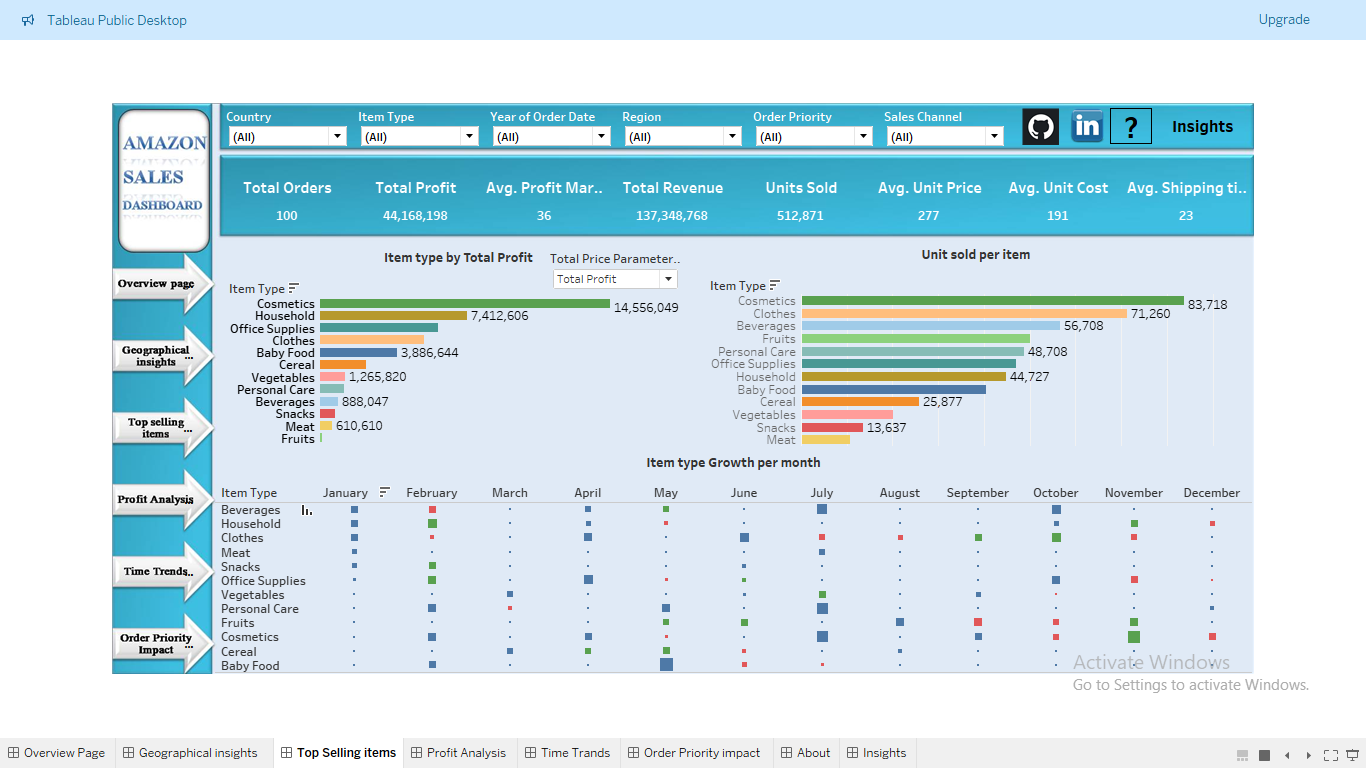

What the dashboard file says about the page in this screenshot:
{"tool":"tableau","page":{"name":"Top Selling items","canvas":[1150,590],"ordinal":7},"visuals":[{"type":"image","param":"Image/Overview page 1.jpg","box":[0,0,1150,590]},{"type":"filter","title":"KPI","param":"[federated.0k0h3zn0j6ocbn1h67y0m1jnyyte].[none:Country:nk]","box":[114,10,132,47]},{"type":"filter","title":"KPI","param":"[federated.0k0h3zn0j6ocbn1h67y0m1jnyyte].[none:Item Type:nk]","box":[246,10,132,47]},{"type":"filter","title":"KPI","param":"[federated.0k0h3zn0j6ocbn1h67y0m1jnyyte].[yr:Order Date:ok]","box":[378,10,132,47]},{"type":"filter","title":"KPI","param":"[federated.0k0h3zn0j6ocbn1h67y0m1jnyyte].[none:Region:nk]","box":[510,10,131,47]},{"type":"filter","title":"KPI","param":"[federated.0k0h3zn0j6ocbn1h67y0m1jnyyte].[none:Order Priority:nk]","box":[641,10,131,47]},{"type":"filter","title":"KPI","param":"[federated.0k0h3zn0j6ocbn1h67y0m1jnyyte].[none:Sales Channel:nk]","box":[772,10,131,47]},{"type":"image","param":"Image/linkedin-logo-png-1826.png","box":[955,11,48,40]},{"type":"dashboard-object","box":[1054,13,83,38]},{"type":"image","param":"Image/github-6980894_1920.png","box":[914,14,37,38]},{"type":"dashboard-object","box":[1002,14,42,36]},{"type":"worksheet","title":"KPI","mark":"Automatic","box":[115,64,1028,75]},{"type":"worksheet","title":"Unit sold per item","mark":"Automatic","rows":["Item Type"],"cols":["Units Sold"],"box":[593,147,550,205]},{"type":"worksheet","title":"Item type by","mark":"Automatic","rows":["Item Type"],"cols":["Calculation_864128192245633026"],"box":[112,150,477,200]},{"type":"parameter","param":"[Parameters].[Parameter 2]","box":[442,156,131,41]},{"type":"dashboard-object","box":[7,177,83,25]},{"type":"dashboard-object","box":[7,248,83,25]},{"type":"dashboard-object","box":[6,321,83,25]},{"type":"worksheet","title":"Item type Growth per month","mark":"Automatic","rows":["Item Type"],"cols":["Order Date"],"box":[107,355,1037,224]},{"type":"dashboard-object","box":[7,393,83,25]},{"type":"dashboard-object","box":[7,465,83,25]},{"type":"dashboard-object","box":[7,537,83,25]}]}

Visuals, with their boxes on the page's 1150x590 design canvas (x1, y1, x2, y2). These are canvas units, not pixel positions in the 1366x768 screenshot, which may show the page scaled, cropped or inside an application window:
image: bbox(0, 0, 1150, 590)
"KPI" filter: bbox(114, 10, 246, 57)
"KPI" filter: bbox(246, 10, 378, 57)
"KPI" filter: bbox(378, 10, 510, 57)
"KPI" filter: bbox(510, 10, 641, 57)
"KPI" filter: bbox(641, 10, 772, 57)
"KPI" filter: bbox(772, 10, 903, 57)
image: bbox(955, 11, 1003, 51)
dashboard-object: bbox(1054, 13, 1137, 51)
image: bbox(914, 14, 951, 52)
dashboard-object: bbox(1002, 14, 1044, 50)
"KPI" worksheet: bbox(115, 64, 1143, 139)
"Unit sold per item" worksheet: bbox(593, 147, 1143, 352)
"Item type by" worksheet: bbox(112, 150, 589, 350)
parameter: bbox(442, 156, 573, 197)
dashboard-object: bbox(7, 177, 90, 202)
dashboard-object: bbox(7, 248, 90, 273)
dashboard-object: bbox(6, 321, 89, 346)
"Item type Growth per month" worksheet: bbox(107, 355, 1144, 579)
dashboard-object: bbox(7, 393, 90, 418)
dashboard-object: bbox(7, 465, 90, 490)
dashboard-object: bbox(7, 537, 90, 562)
